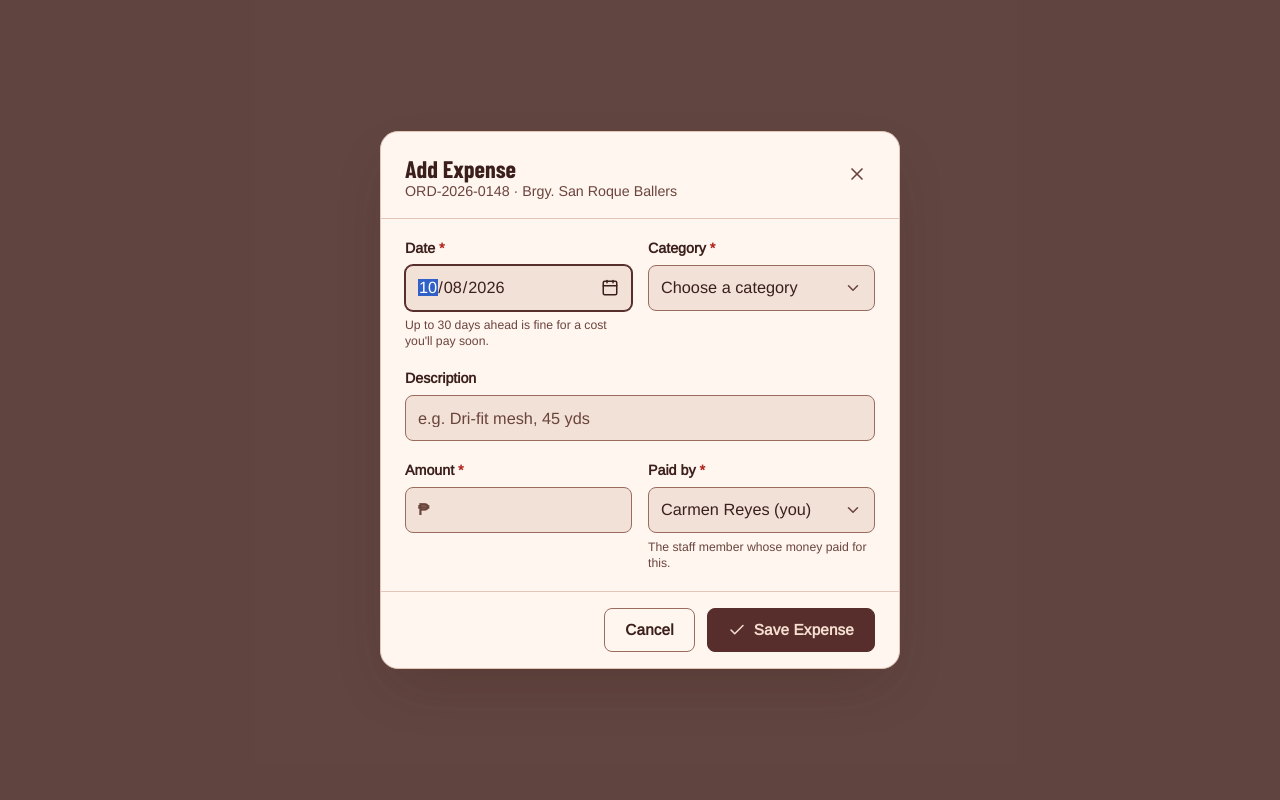
Scenario: add mode checks before any request (OR-3) › refuses a date 31 days after today and names the latest day
Type "1500" into the field labelled "Amount *".
click(530, 510); type("1500")  # box x1=429 y1=488 x2=631 y2=532
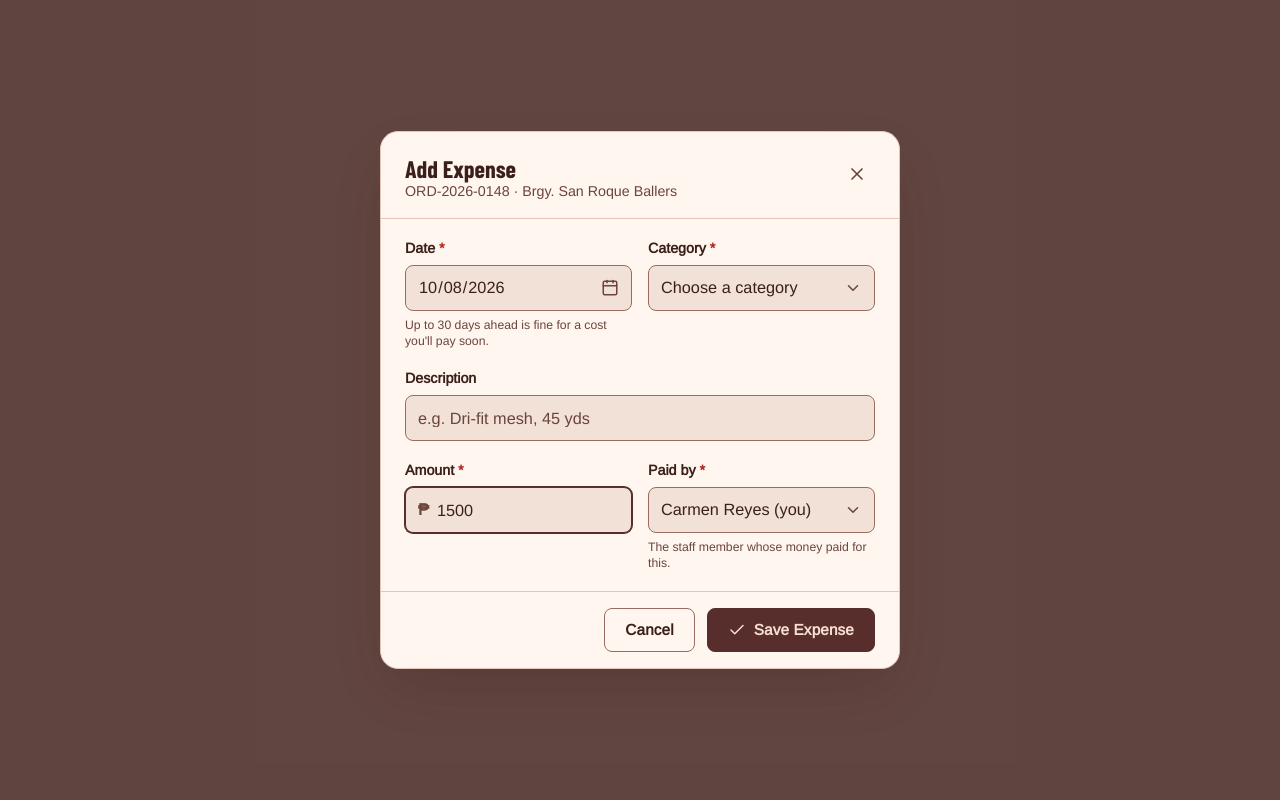
Select "Fabric" in the dropdown labelled "Category *" at (762, 288), box x1=649 y1=266 x2=874 y2=310
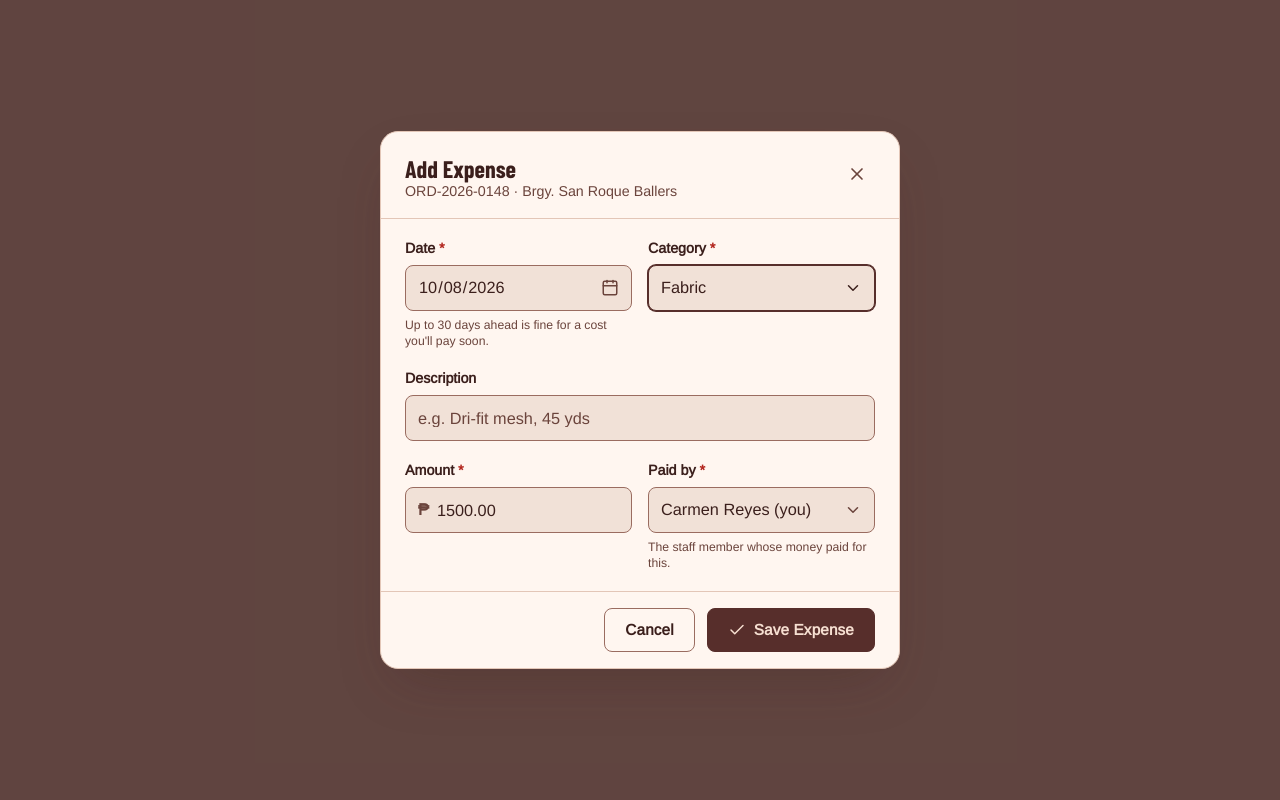
Type "2026-11-08" into the date field labelled "Date *".
click(518, 288); type("2026-11-08")  # box x1=406 y1=266 x2=631 y2=310
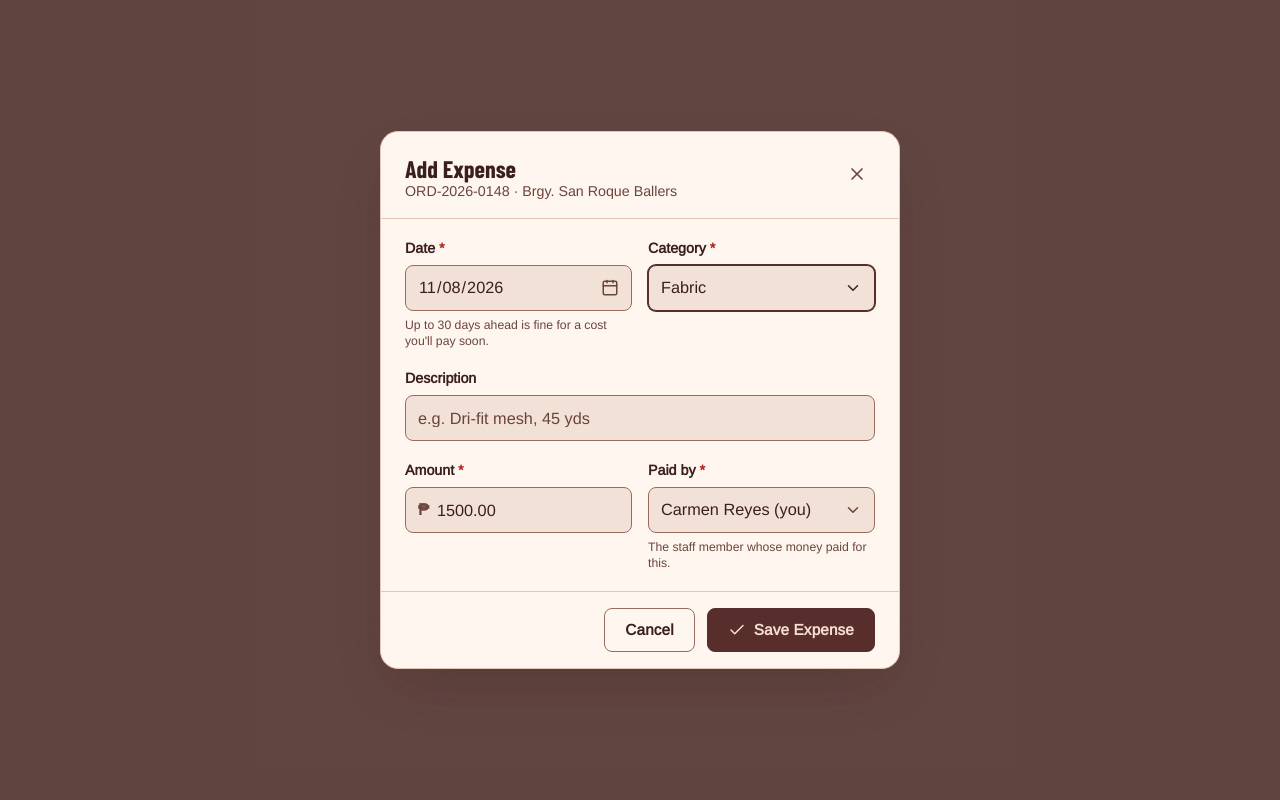
Click the button "Save Expense".
click(791, 630)  # box x1=707 y1=608 x2=875 y2=652
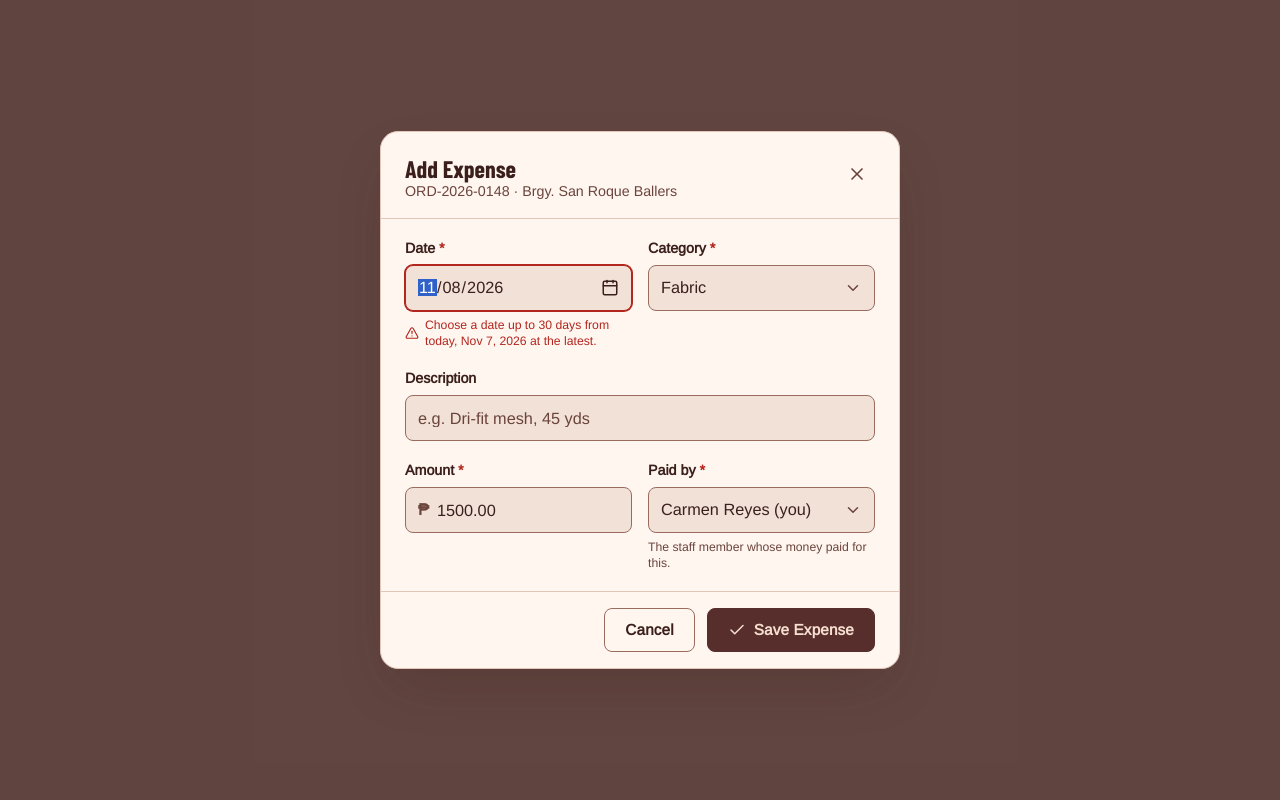
Expected: the text "Choose a date up to 30 days from today, Nov 7, 2026 at the latest." is shown, x1=405 y1=317 x2=632 y2=349
